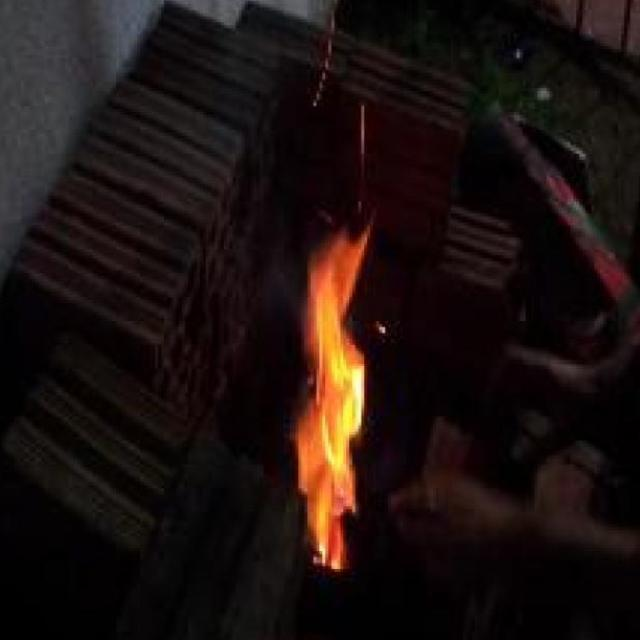smoke: (288, 212, 380, 567)
